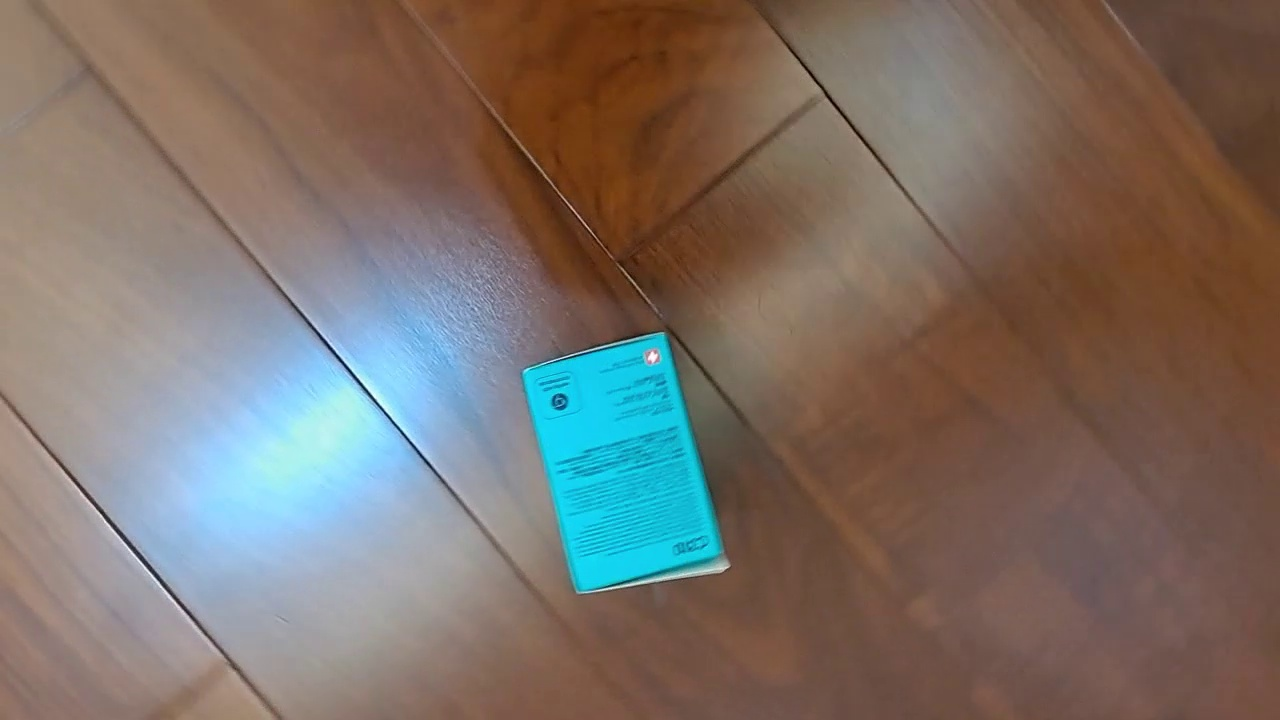webcam: (520, 331, 731, 595)
